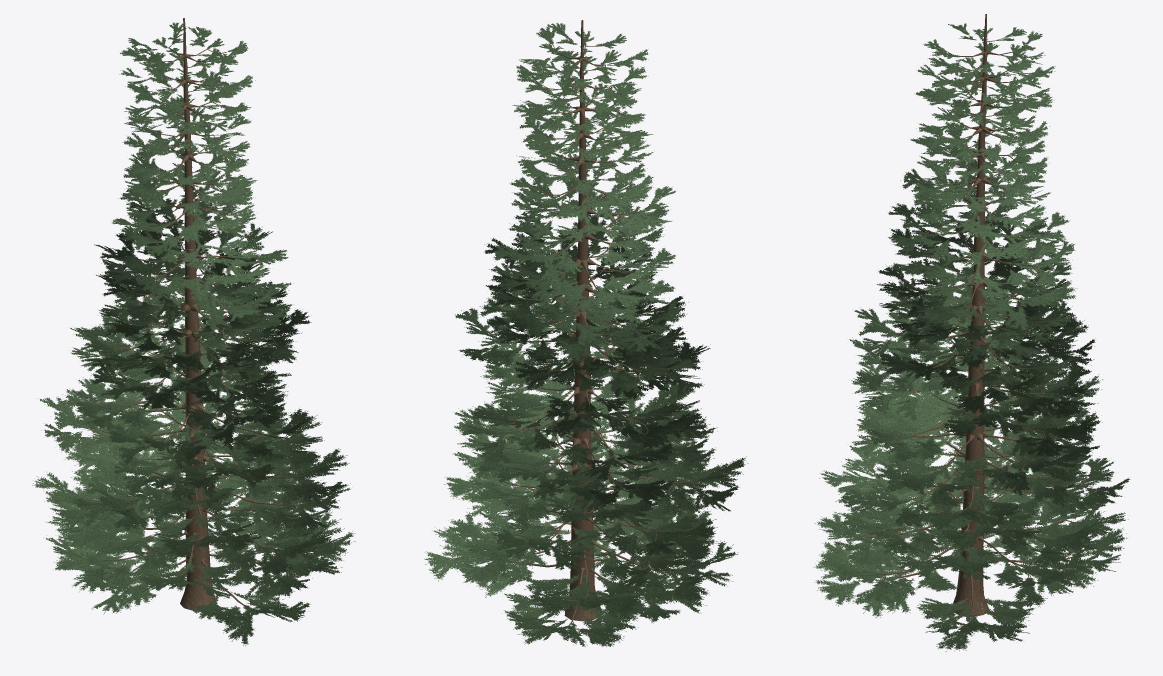
Rendered from Scenery_Spruce_V3.fbx.
3 renders of one model, left to right at view 1: azimuth 30°, elevation 25°; view 2: azimuth 150°, elevation 25°; view 3: azimuth 270°, elevation 25°, orthographic. The views are drawn at different scales.
Visible parts, largest first — view 1: Scenery_Spruce_V3_LOD0; view 2: Scenery_Spruce_V3_LOD0; view 3: Scenery_Spruce_V3_LOD0.
Part boxes in pixels (x1,y1,x2,y2): Scenery_Spruce_V3_LOD0: (32,18,355,645); Scenery_Spruce_V3_LOD0: (424,20,748,646); Scenery_Spruce_V3_LOD0: (813,14,1130,651).
Size of what is drawn, in the model's own units: 9.21 by 16.45 by 8.98.
